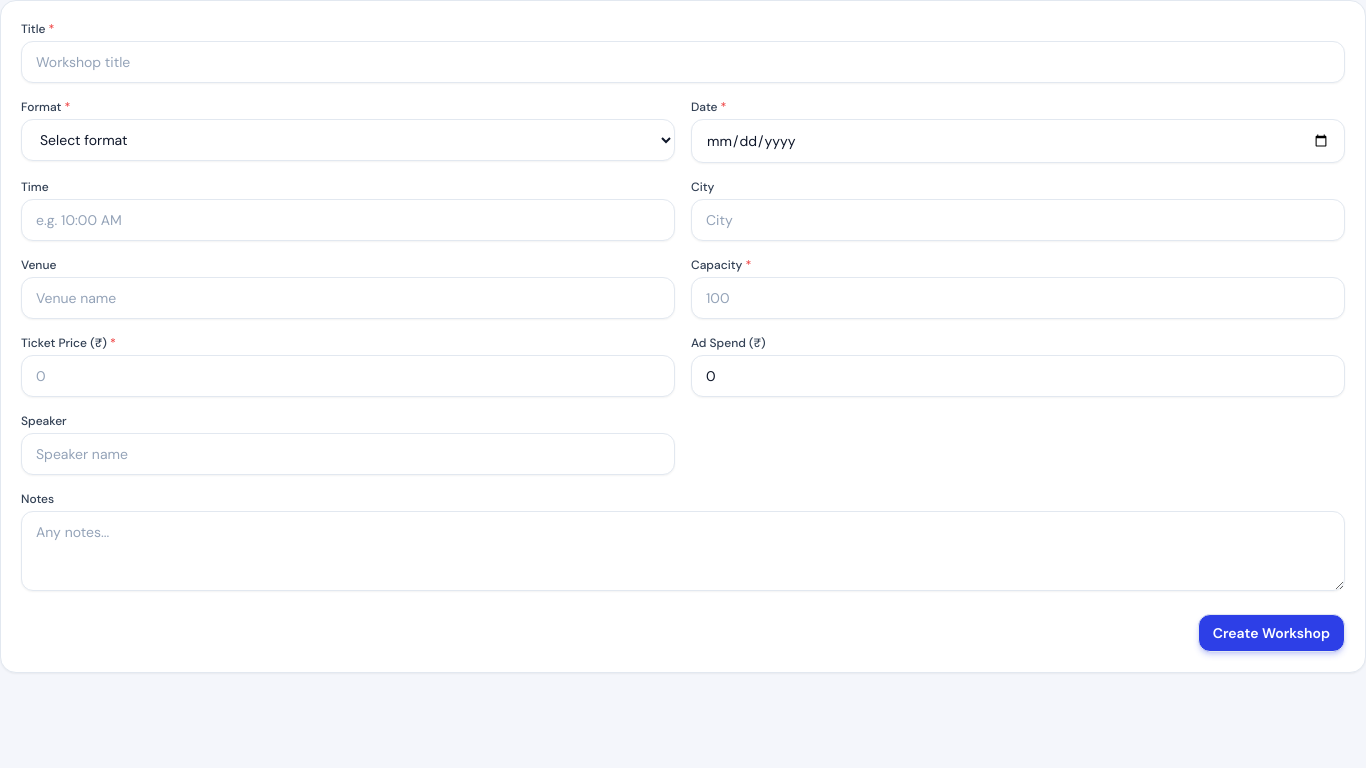
Test: WorkshopForm › shows validation errors when submitting an empty form
Click the button "Create Workshop": [1271, 633] box [1198,614,1345,652]
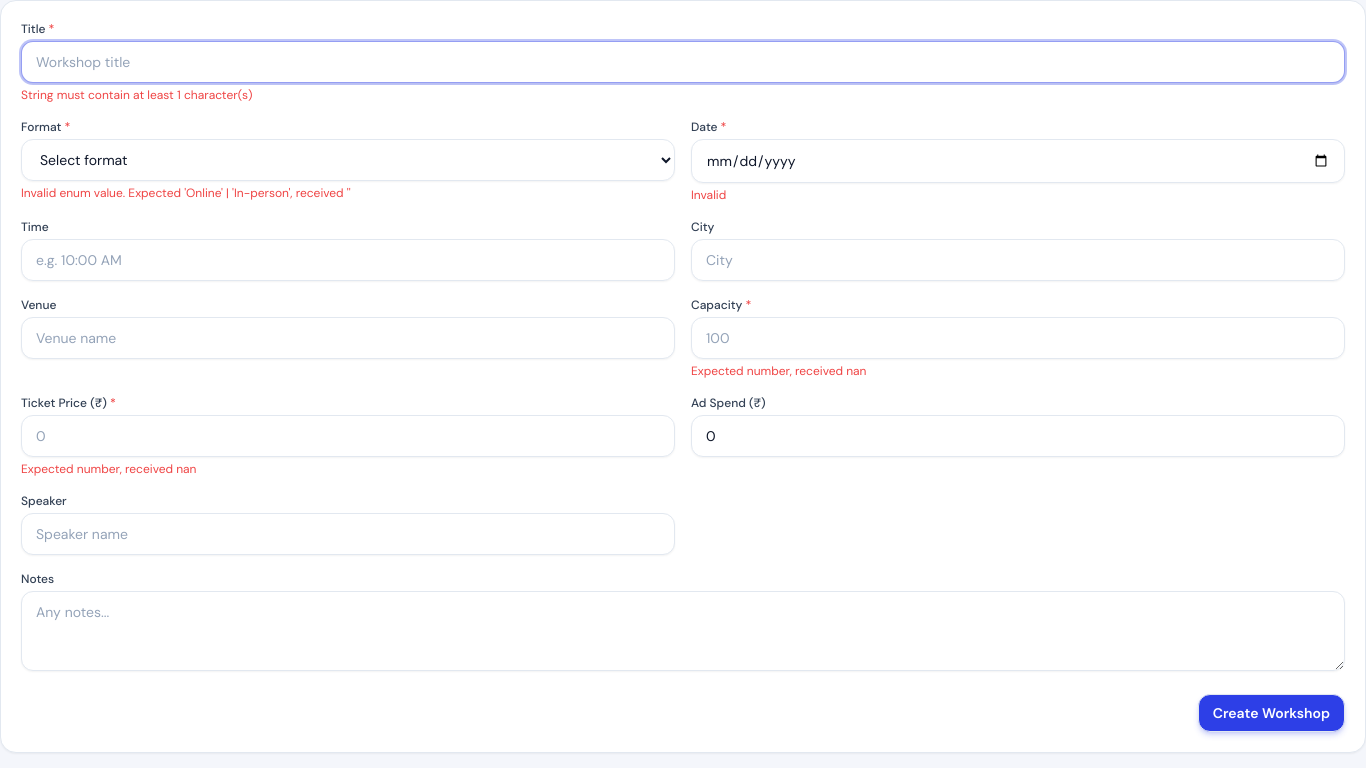
Check: the text "String must contain at least 1 character(s)" is shown, box [21,87,252,103]
